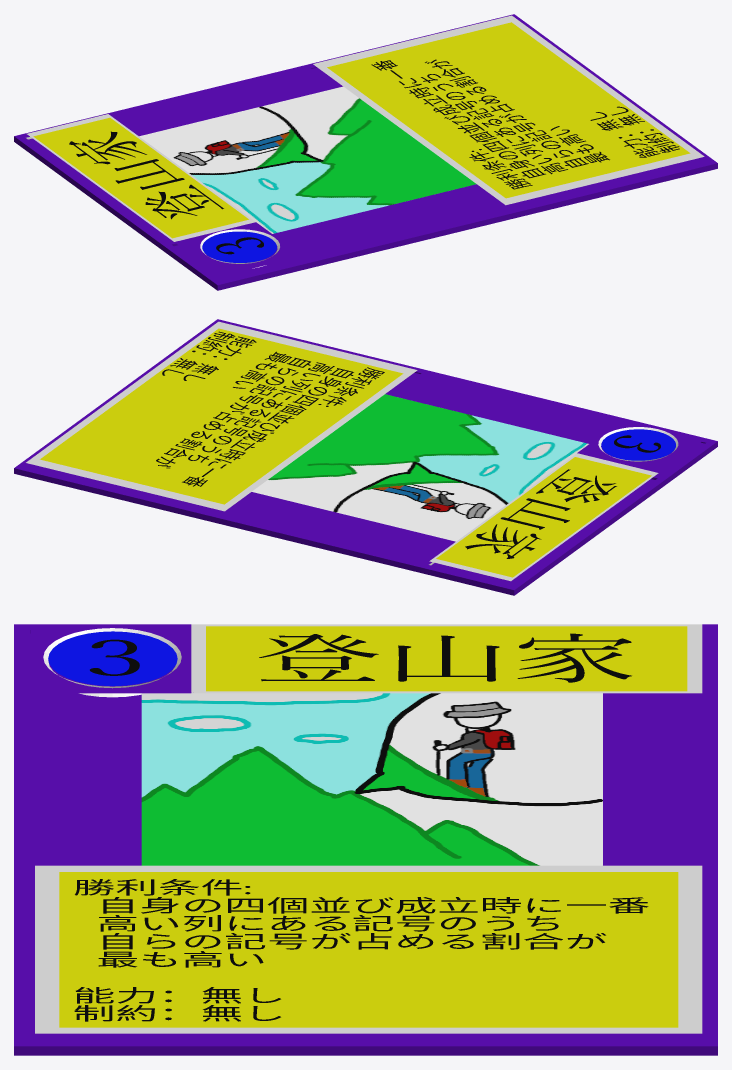
The model's file is 登山家紫.fbx.
3 views of the same model, one above another, from view 1: azimuth 30°, elevation 25°; view 2: azimuth 150°, elevation 25°; view 3: azimuth 270°, elevation 25° (orthographic). The views are drawn at different scales.
Parts seen in each view (by area): view 1: 説明欄, 平面.001, カード本体.001, 名前欄, 説明文, 円, 平面, 名前; view 2: 説明欄, 平面.001, カード本体.001, 名前欄, 説明文, 円, 平面, 名前; view 3: 説明欄, 平面.001, カード本体.001, 名前欄, 説明文, 円, 平面, 名前, コスト蘭.
Part boxes in pixels (x1,y1,x2,y2): 説明欄: (313,15,704,205); 平面.001: (139,86,476,233); カード本体.001: (14,14,717,290); 名前欄: (27,114,255,241); 説明文: (371,59,679,189); 円: (202,231,276,262); 平面: (174,222,302,275); 名前: (69,131,223,219); 説明欄: (26,321,417,511); 平面.001: (252,394,588,541); カード本体.001: (14,319,717,595); 名前欄: (429,453,658,581); 説明文: (156,331,384,486); 円: (601,429,675,460); 平面: (577,419,704,472); 名前: (465,469,616,558); 説明欄: (35,865,702,1033); 平面.001: (141,693,602,865); カード本体.001: (14,624,717,1055); 名前欄: (191,624,702,693); 説明文: (74,879,648,1021); 円: (48,631,177,686); 平面: (30,624,191,693); 名前: (259,633,631,682); コスト蘭: (43,628,181,697).
Bounding box in the file's own units: 281 × 6.07 × 198.
